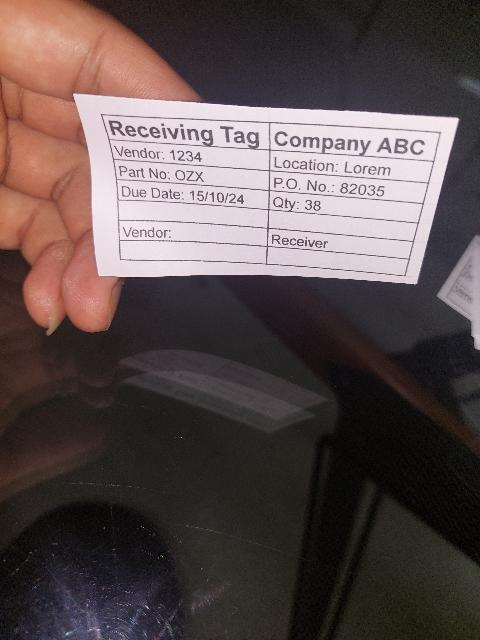PO no: (270, 171, 427, 204)
part no: (114, 161, 269, 191)
qty: (269, 190, 424, 224)
tags: (74, 94, 458, 284)
